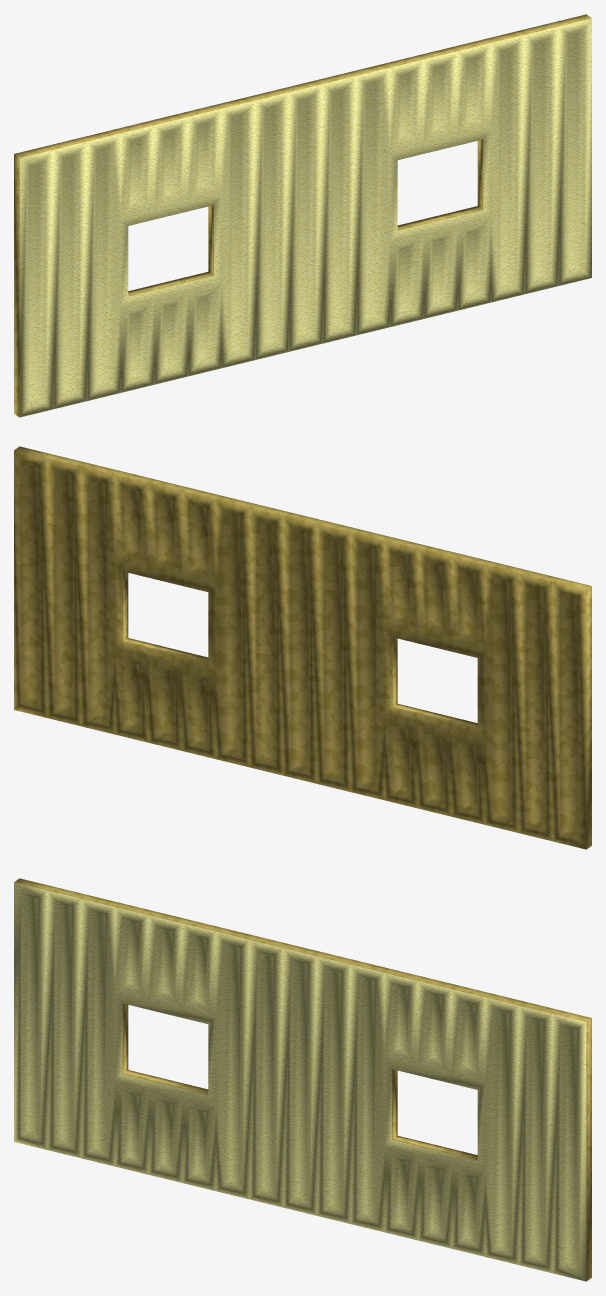
The model's file is containersidewithtexture.obj.
The picture shows the model from 3 angles, top to bottom: view 1: azimuth 30°, elevation 25°; view 2: azimuth 150°, elevation 25°; view 3: azimuth 330°, elevation 25°; orthographic projection.
Visible parts, largest first — view 1: default; view 2: default; view 3: default.
Boxes of the visible parts, x1=… form: default: x1=14, y1=14, x2=591, y2=417; default: x1=14, y1=446, x2=591, y2=849; default: x1=14, y1=878, x2=591, y2=1281.
Size of the model in its own units: 600 by 260 by 10.05.
